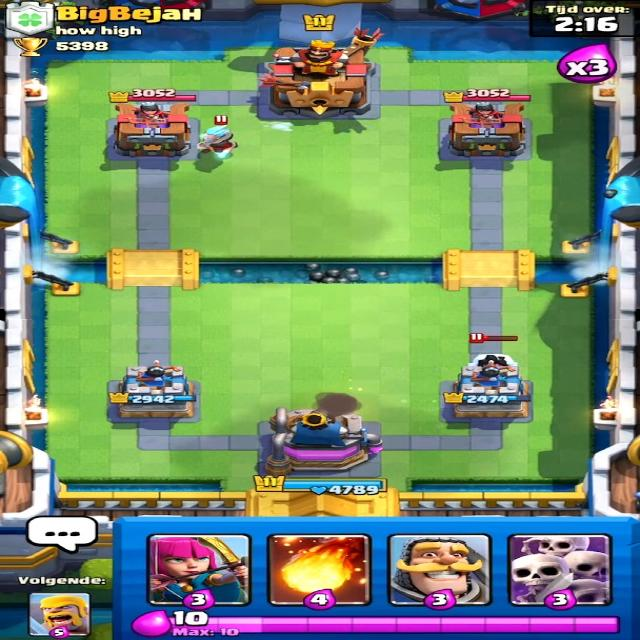Enemy_Ice_Wizard_Troop: (193, 124, 247, 162)
Fireball_Card: (268, 531, 372, 608)
